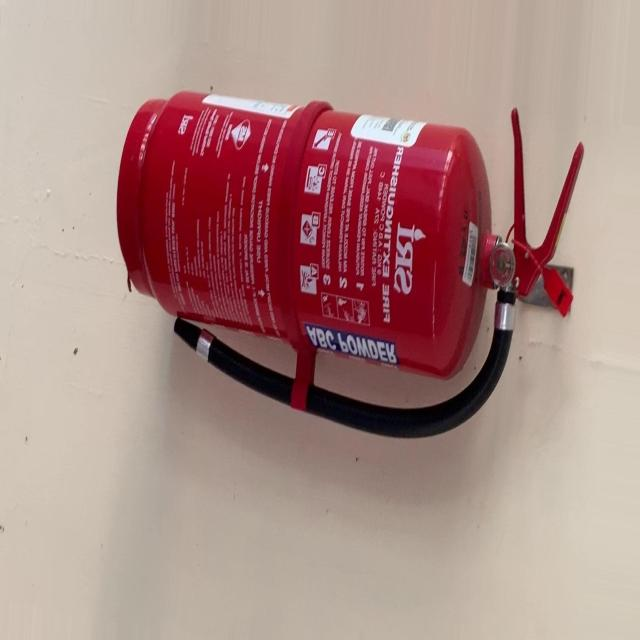fire_extinguisher: (114, 81, 588, 443)
